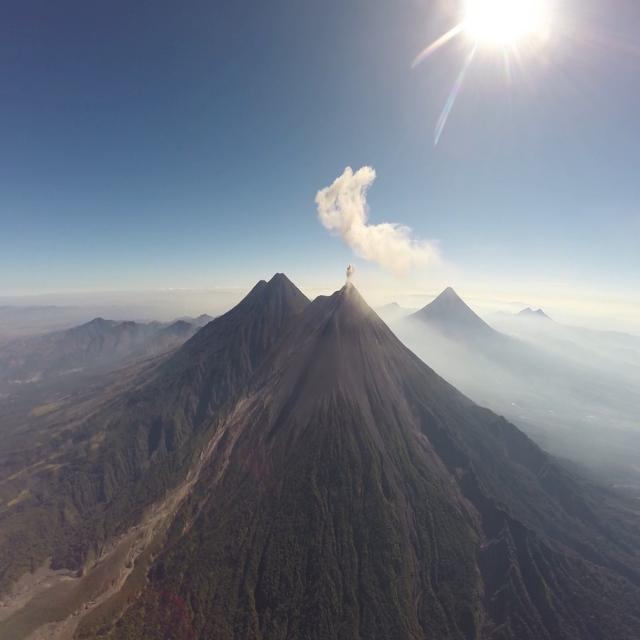Plume: (315, 163, 439, 274), (344, 262, 354, 284)
Summit: (332, 279, 367, 305)
